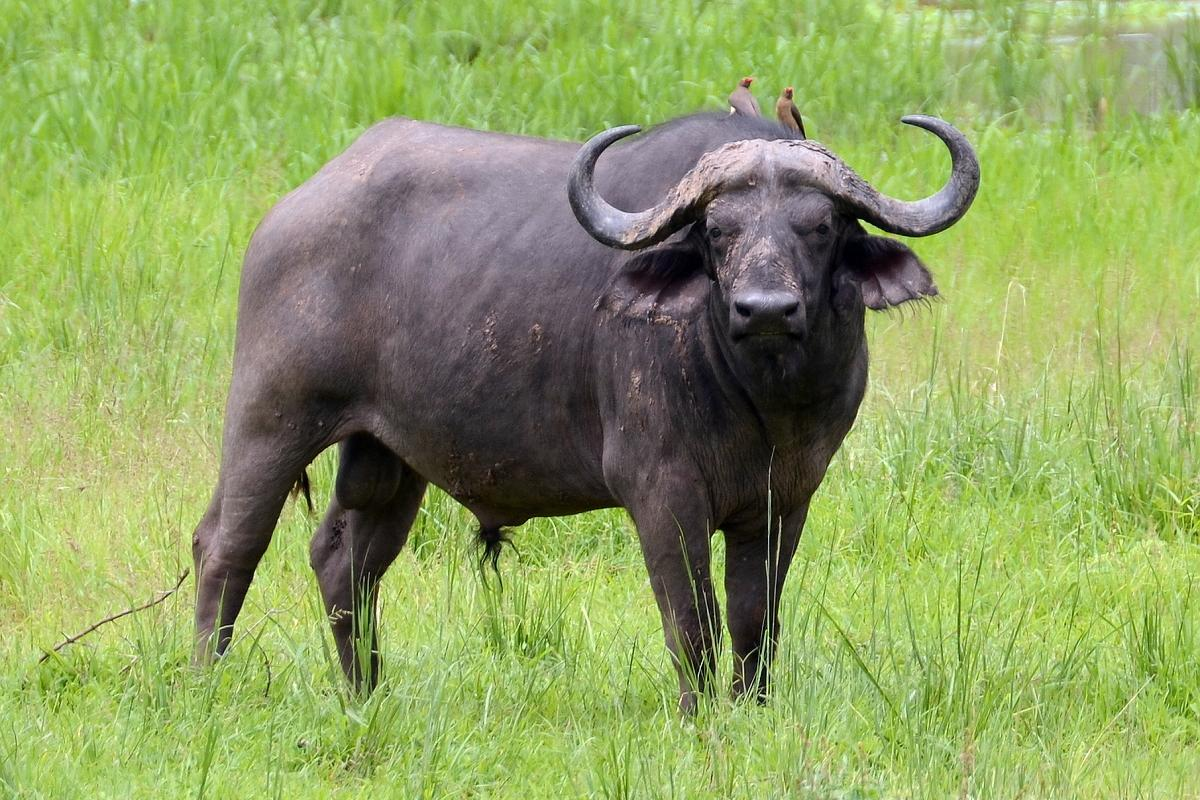Buffalo: (54, 0, 1140, 800)
